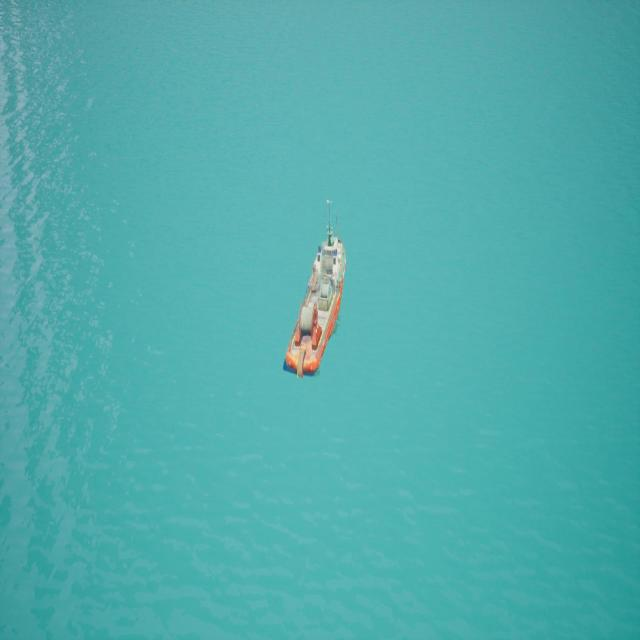tug boat: (285, 201, 348, 380)
